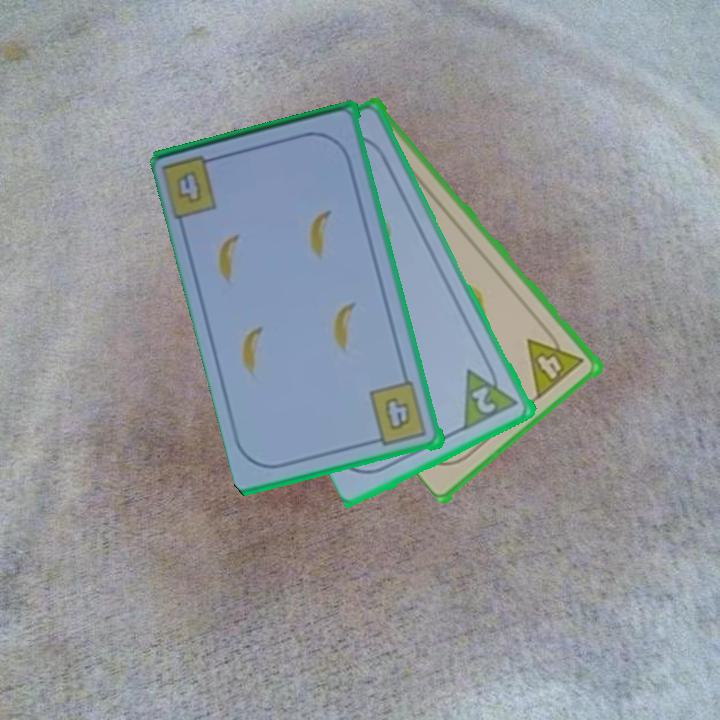2p: (469, 383, 500, 417)
4b: (366, 379, 431, 450), (161, 152, 226, 222)
4p: (523, 323, 588, 401)
